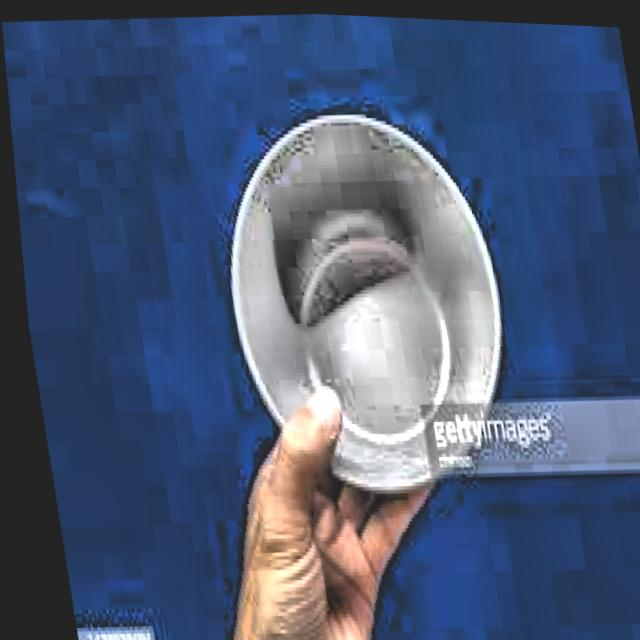Cup: (179, 86, 533, 518)
